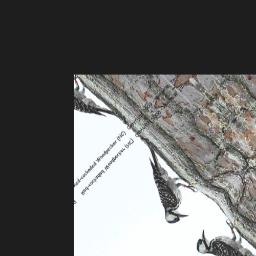Woodpecker: (114, 139, 207, 231)
